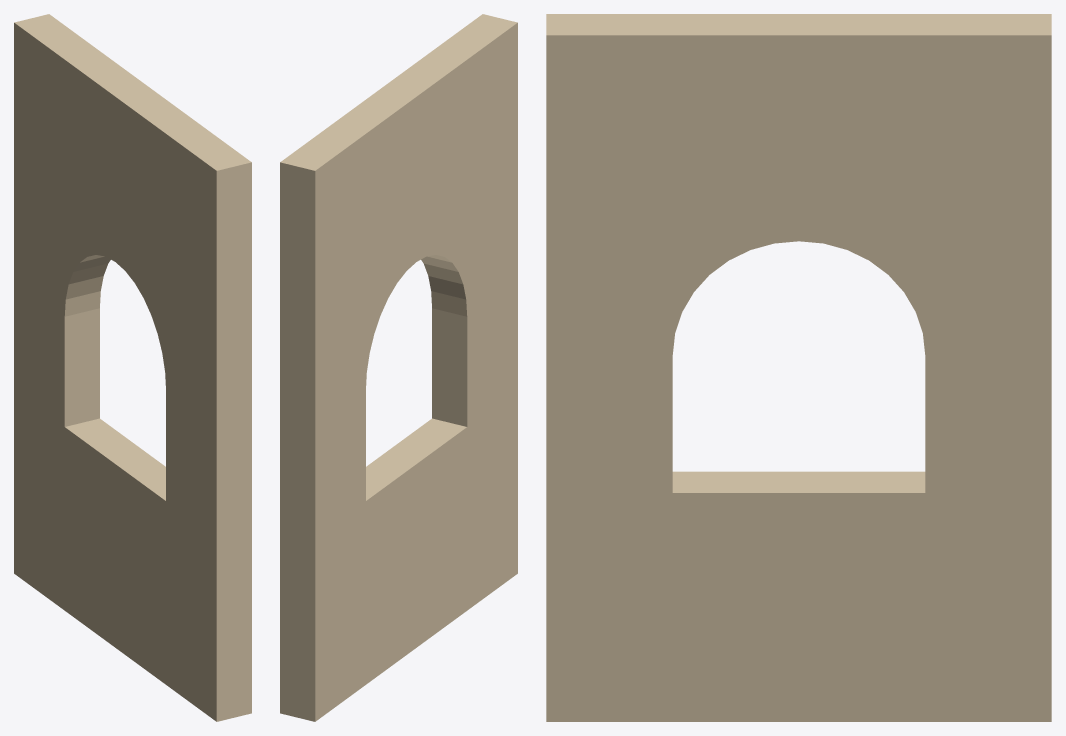
Rendered from SM_WL_WallWindowArch2m.fbx.
3 renders of one model, left to right at view 1: azimuth 30°, elevation 25°; view 2: azimuth 150°, elevation 25°; view 3: azimuth 270°, elevation 25°, orthographic. The views are drawn at different scales.
Parts seen in each view (by area): view 1: SM_WL_WallWindowArch2m; view 2: SM_WL_WallWindowArch2m; view 3: SM_WL_WallWindowArch2m.
Part boxes in pixels (<box>): SM_WL_WallWindowArch2m: <box>14,14,251,721</box>; SM_WL_WallWindowArch2m: <box>280,14,517,721</box>; SM_WL_WallWindowArch2m: <box>546,14,1051,721</box>.
Size of what is drawn, in the model's own units: 2 by 0.2 by 3.
